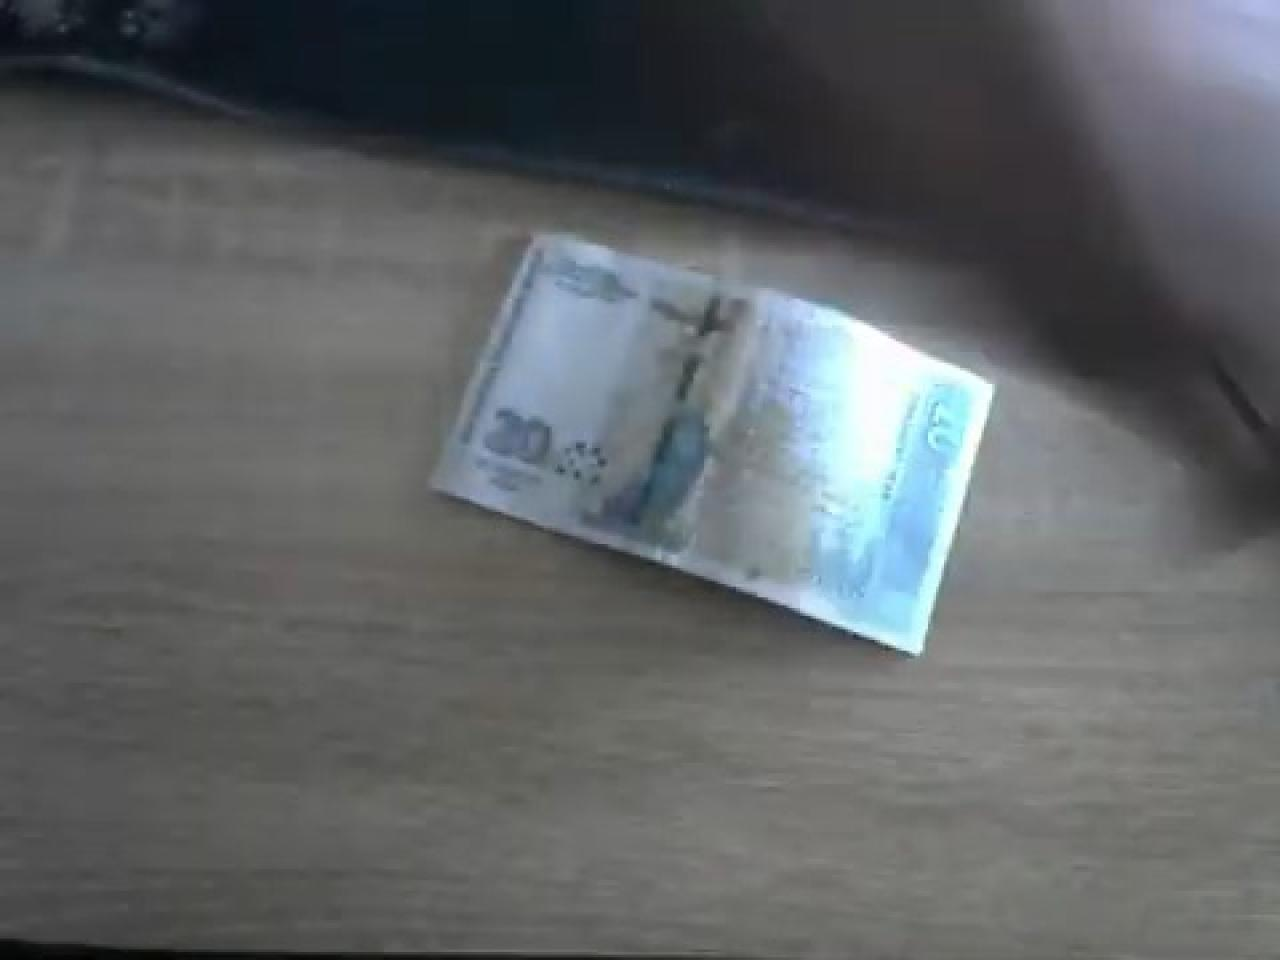20leva: (426, 227, 997, 658)
